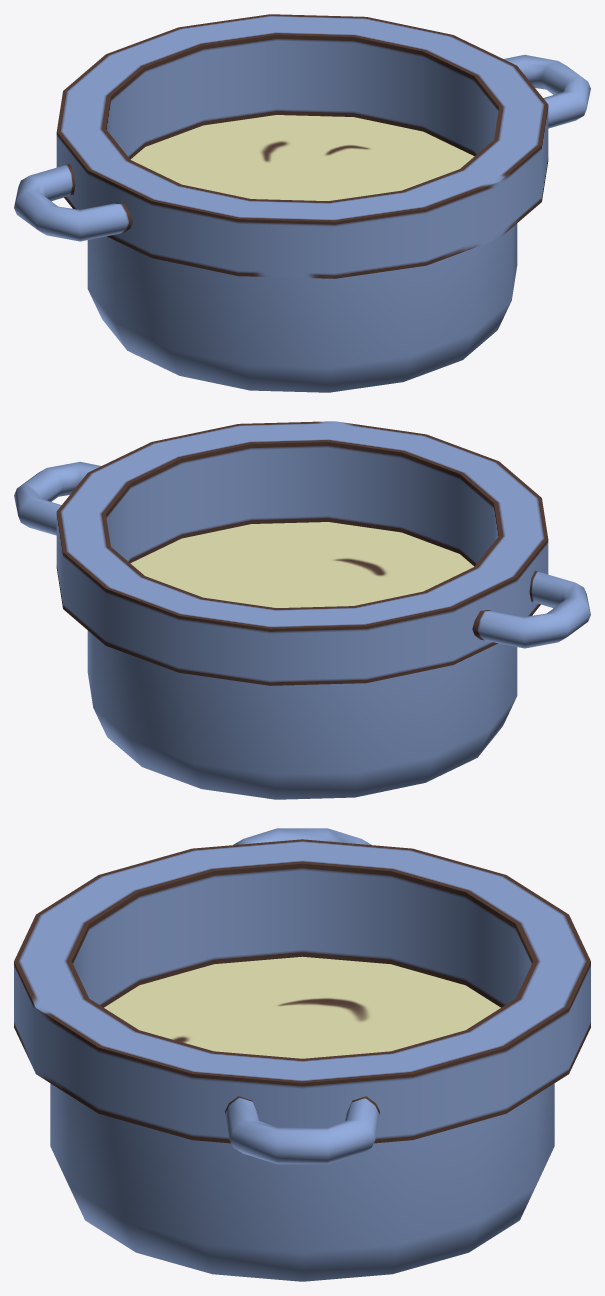
File: The clamp soup.fbx
3 renders of one model, top to bottom at view 1: azimuth 30°, elevation 25°; view 2: azimuth 150°, elevation 25°; view 3: azimuth 270°, elevation 25°, orthographic. The views are drawn at different scales.
Parts seen in each view (by area): view 1: polySurface49; view 2: polySurface49; view 3: polySurface49.
Part boxes in pixels (x1,y1,x2,y2): polySurface49: (14,14,590,392); polySurface49: (14,421,590,799); polySurface49: (14,828,590,1281).
Size of the model in its own units: 103 by 35.88 by 79.47.
1 material, 1 textured.
